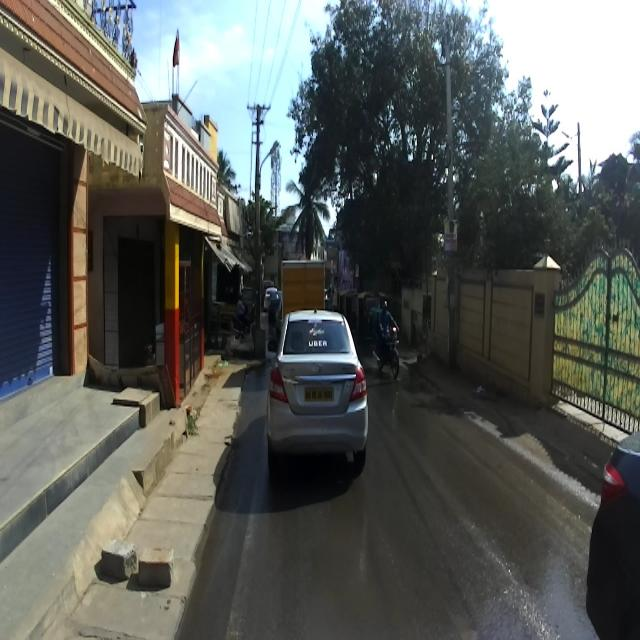Car_Maruti-Suzuki: (266, 307, 368, 473)
motorcycle_bajaj: (374, 306, 402, 382)
